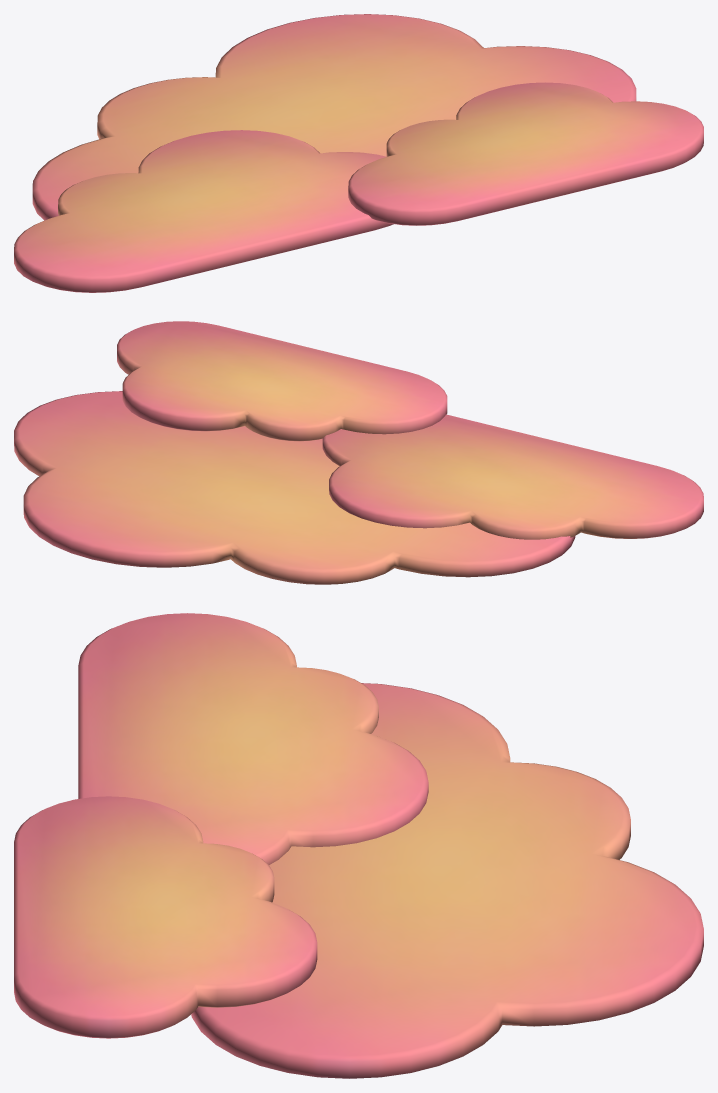
File: cloudPlatform.glb
The picture shows the model from 3 angles, top to bottom: view 1: azimuth 30°, elevation 25°; view 2: azimuth 150°, elevation 25°; view 3: azimuth 270°, elevation 25°; orthographic projection. The views are drawn at different scales.
Parts seen in each view (by area): view 1: CloudPltafrom; view 2: CloudPltafrom; view 3: CloudPltafrom.
Part boxes in pixels (box(x1,y1,x2,y2)): CloudPltafrom: box(14, 14, 703, 292); CloudPltafrom: box(14, 321, 703, 584); CloudPltafrom: box(14, 613, 703, 1078).
Size of what is drawn, in the model's own units: 9.91 by 0.5687 by 6.65.
1 material, 1 textured.
